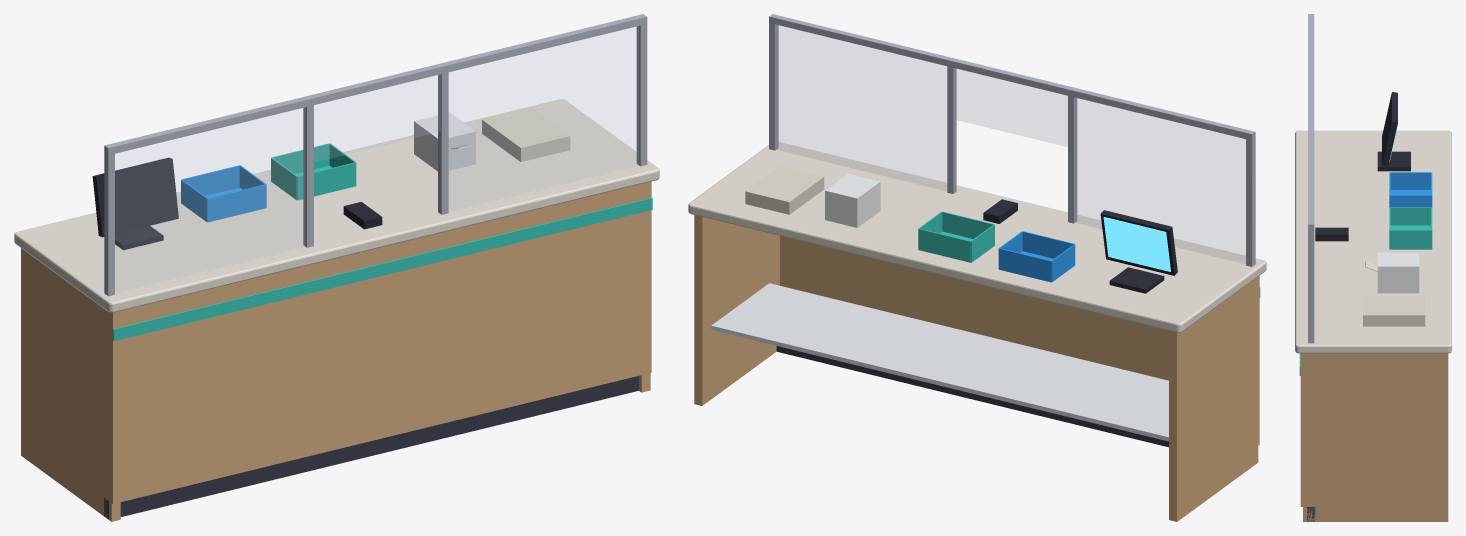
Rendered from hos-027.glb.
3 renders of one model, left to right at view 1: azimuth 30°, elevation 25°; view 2: azimuth 150°, elevation 25°; view 3: azimuth 270°, elevation 25°, orthographic. The views are drawn at different scales.
Parts seen in each view (by area): view 1: beech, glass_clear, laminate, steel, accent_teal, dark_steel, plastic_dark, plastic_blue, paper, white; view 2: beech, glass_clear, laminate, bed_frame, steel, accent_teal, plastic_blue, plastic_dark, paper, dark_steel, pump_screen, white; view 3: laminate, beech, steel, paper, accent_teal, plastic_dark, white, plastic_blue.
Boxes of the visible parts, x1=… form: beech: x1=21, y1=181, x2=651, y2=521; glass_clear: x1=106, y1=26, x2=638, y2=292; laminate: x1=14, y1=99, x2=659, y2=312; steel: x1=104, y1=14, x2=647, y2=296; accent_teal: x1=113, y1=143, x2=652, y2=341; dark_steel: x1=104, y1=376, x2=638, y2=519; plastic_dark: x1=92, y1=157, x2=382, y2=250; plastic_blue: x1=181, y1=165, x2=266, y2=222; paper: x1=451, y1=107, x2=570, y2=161; white: x1=414, y1=112, x2=475, y2=171; beech: x1=694, y1=215, x2=1259, y2=521; glass_clear: x1=777, y1=25, x2=1245, y2=263; laminate: x1=688, y1=142, x2=1266, y2=332; bed_frame: x1=711, y1=283, x2=1168, y2=441; steel: x1=769, y1=14, x2=1255, y2=266; accent_teal: x1=918, y1=211, x2=1260, y2=297; plastic_blue: x1=998, y1=231, x2=1075, y2=282; plastic_dark: x1=983, y1=199, x2=1177, y2=293; paper: x1=745, y1=166, x2=876, y2=214; dark_steel: x1=776, y1=346, x2=1168, y2=447; pump_screen: x1=1103, y1=217, x2=1170, y2=271; white: x1=825, y1=173, x2=880, y2=227; laminate: x1=1295, y1=130, x2=1451, y2=353; beech: x1=1300, y1=353, x2=1448, y2=521; steel: x1=1308, y1=14, x2=1314, y2=343; paper: x1=1363, y1=261, x2=1425, y2=326; accent_teal: x1=1299, y1=207, x2=1432, y2=375; plastic_dark: x1=1315, y1=92, x2=1410, y2=241; white: x1=1377, y1=252, x2=1419, y2=293; plastic_blue: x1=1389, y1=172, x2=1432, y2=207.
Size of the model in its own units: 2.45 by 1.58 by 0.755.
